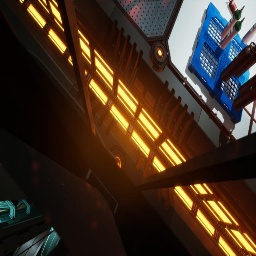0: (221, 5, 245, 39), (221, 17, 245, 50), (242, 22, 256, 44)
FireExtinguisher ]: (229, 0, 238, 15)
NitrogenTank ,: (221, 42, 256, 82), (234, 47, 256, 78), (233, 84, 256, 111), (238, 74, 256, 96)
